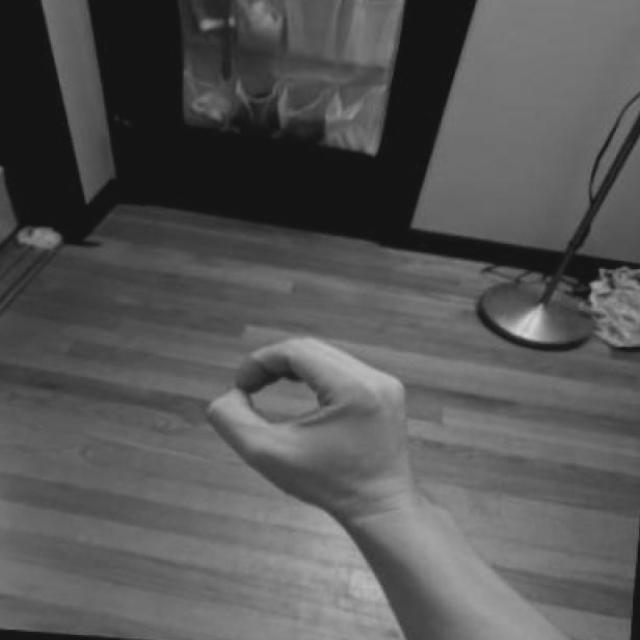O: (195, 315, 456, 553)
